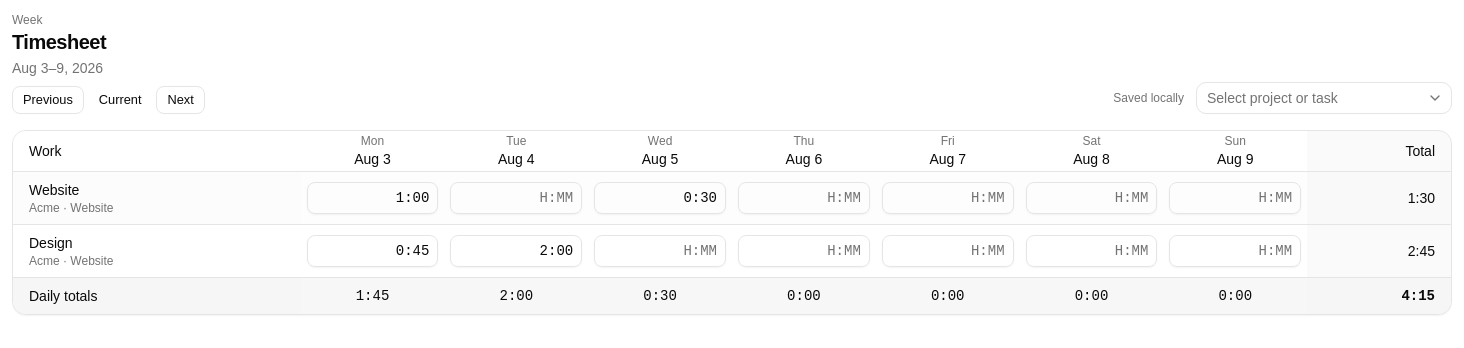
Test case: keeps failed drafts, prioritizes failure status, and retries
Step 1. Replace the text in the field named "Acme · Website · Mon Aug 3" with "2:30" → (372, 198), box [307,182,438,214]
Then press Enter
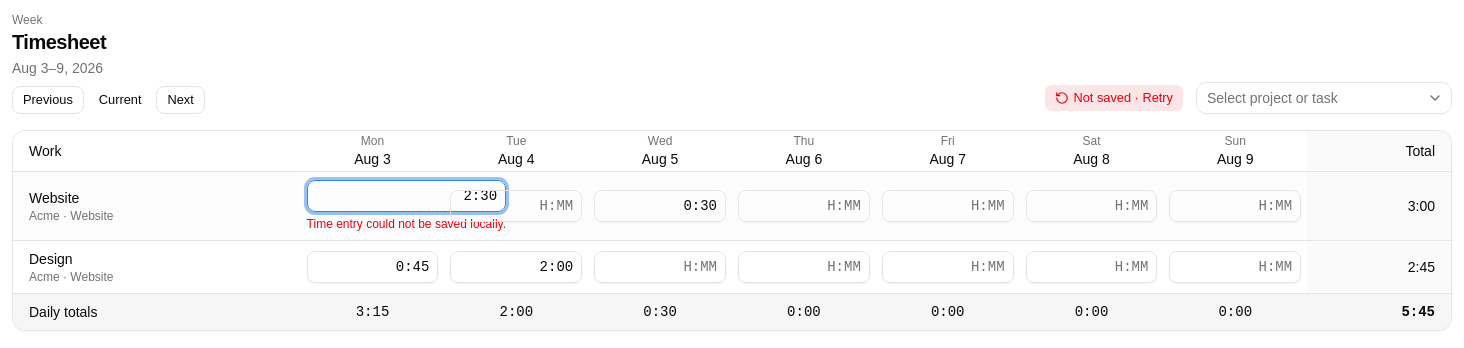
Result: the message "Time entry could not be saved locally." is shown at [307,216,506,232]
Result: the message "Not saved · Retry" is shown at [1044,84,1184,112]
Step 2. Type "bad" into the field named "Acme · Website · Design · Wed Aug 5" → (660, 266), box [594,250,726,282]
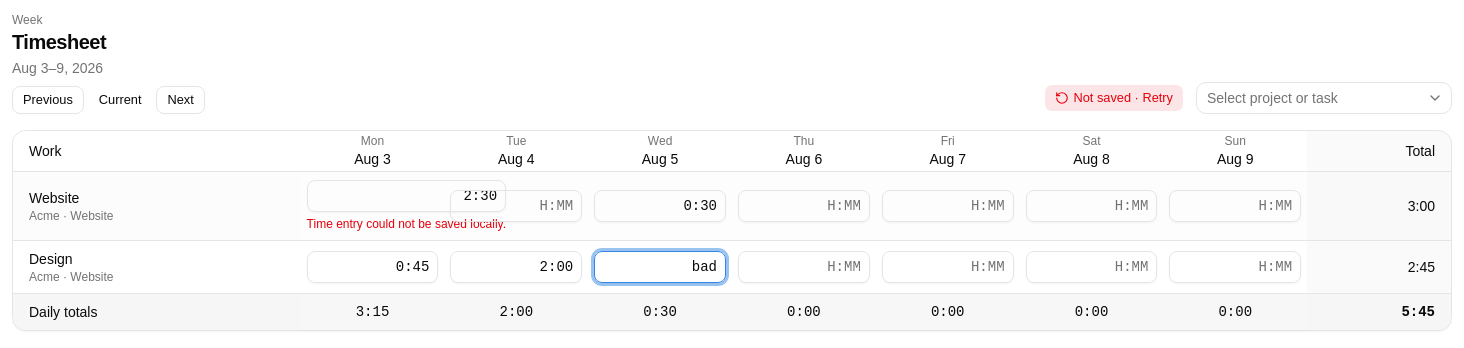
Result: the message "Not saved · Retry" is shown
Step 3. Click the button "Not saved · Retry" → (1114, 98), box [1044,84,1184,112]
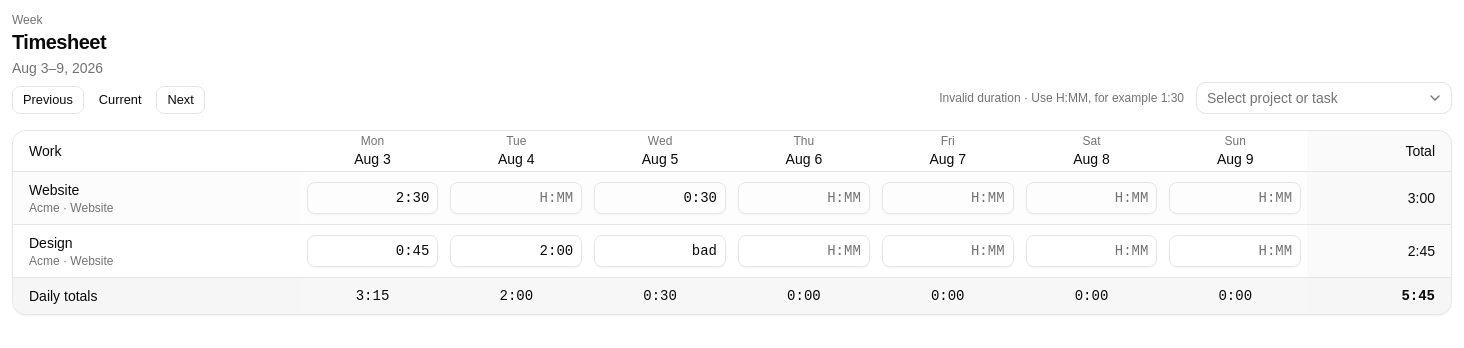
Result: the message reads "Invalid duration · Use H:MM, for example 1:30" at [939,91,1184,105]
